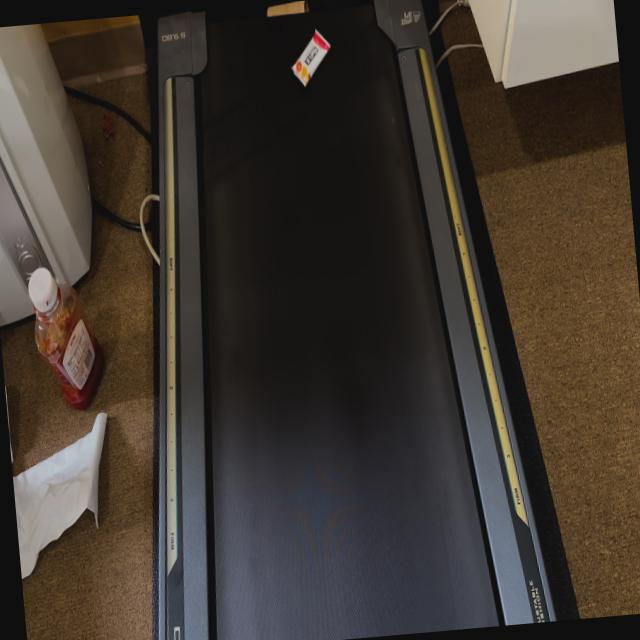Trash: (288, 28, 334, 90)
